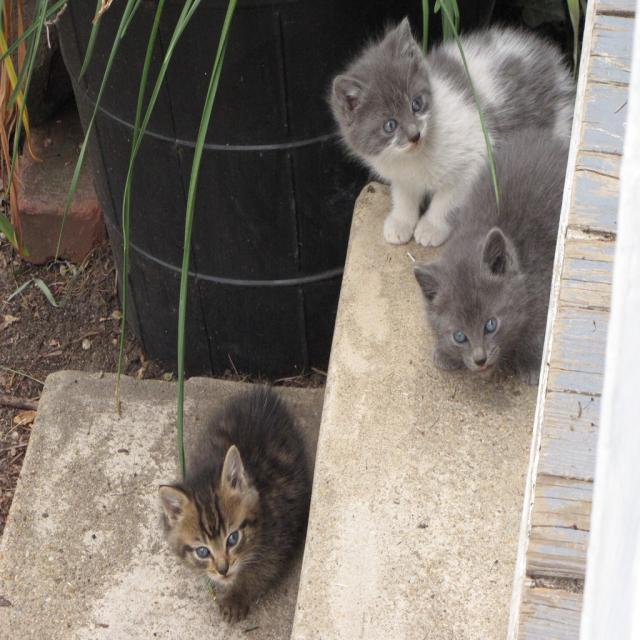Cat: (323, 16, 572, 251), (413, 126, 565, 387), (154, 382, 316, 624)
